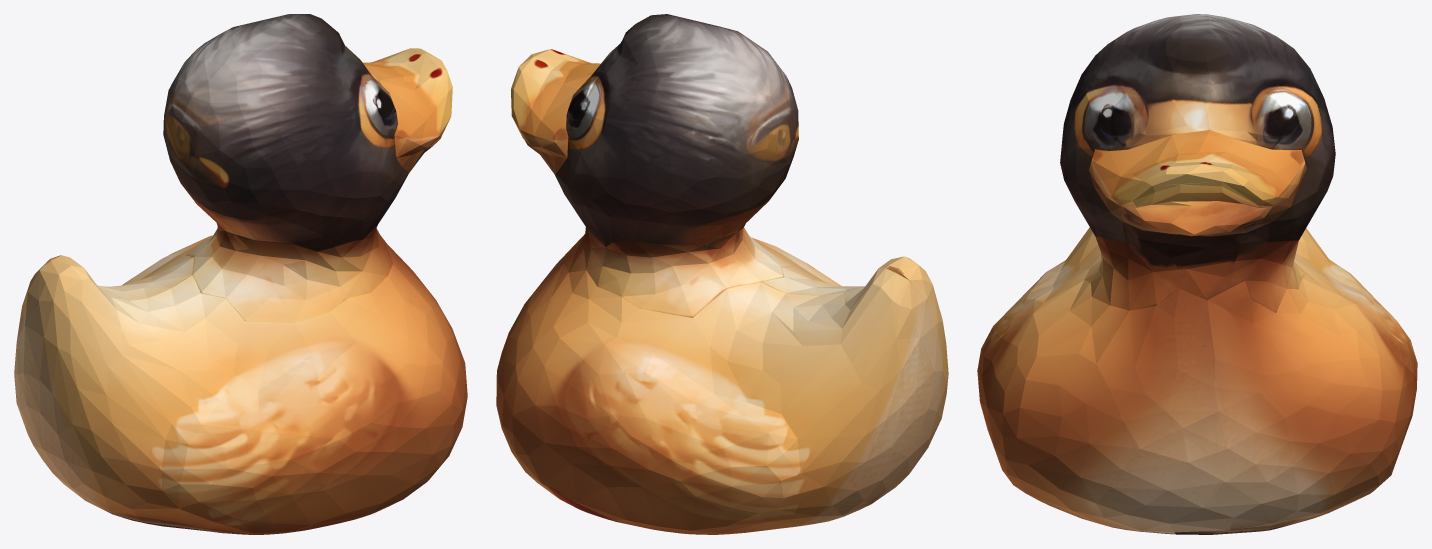
Rendered from doctor_rubber_ducky.glb.
The picture shows the model from 3 angles, left to right: view 1: azimuth 30°, elevation 25°; view 2: azimuth 150°, elevation 25°; view 3: azimuth 270°, elevation 25°; orthographic projection. The views are drawn at different scales.
Parts seen in each view (by area): view 1: final_rubber_duck; view 2: final_rubber_duck; view 3: final_rubber_duck.
Part boxes in pixels (bbox=[...]): final_rubber_duck: bbox=[14, 14, 467, 534]; final_rubber_duck: bbox=[496, 14, 948, 534]; final_rubber_duck: bbox=[977, 14, 1417, 534].
Bounding box in the file's own units: 1.77 × 1.78 × 1.56.
1 material, 1 textured.
